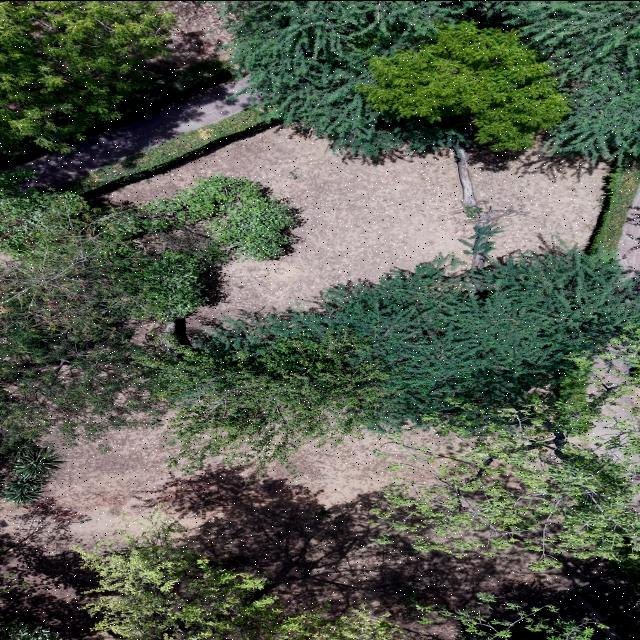DRY_AREA: (0, 430, 639, 638), (1, 431, 639, 639), (1, 431, 617, 635), (109, 128, 473, 316), (19, 79, 258, 187), (23, 81, 248, 187), (160, 1, 230, 69), (617, 189, 639, 276)
VEGETATION_TREE: (0, 109, 639, 582), (1, 177, 636, 468), (115, 250, 637, 568), (127, 250, 639, 574), (149, 250, 639, 569), (147, 249, 639, 468), (0, 176, 297, 454), (369, 272, 639, 563), (371, 319, 639, 586), (372, 329, 639, 575), (223, 1, 637, 158), (224, 1, 637, 158), (373, 331, 639, 574), (1, 176, 297, 336), (77, 517, 402, 639), (146, 315, 388, 470), (225, 1, 462, 156), (78, 524, 397, 639), (357, 22, 569, 151), (0, 1, 173, 152), (477, 1, 639, 160), (0, 327, 166, 454), (62, 104, 270, 194), (139, 175, 296, 259), (84, 53, 230, 136), (418, 593, 604, 639), (117, 59, 230, 119), (586, 167, 639, 259), (1, 441, 64, 505), (567, 588, 636, 639), (607, 555, 639, 590), (0, 621, 60, 639)
